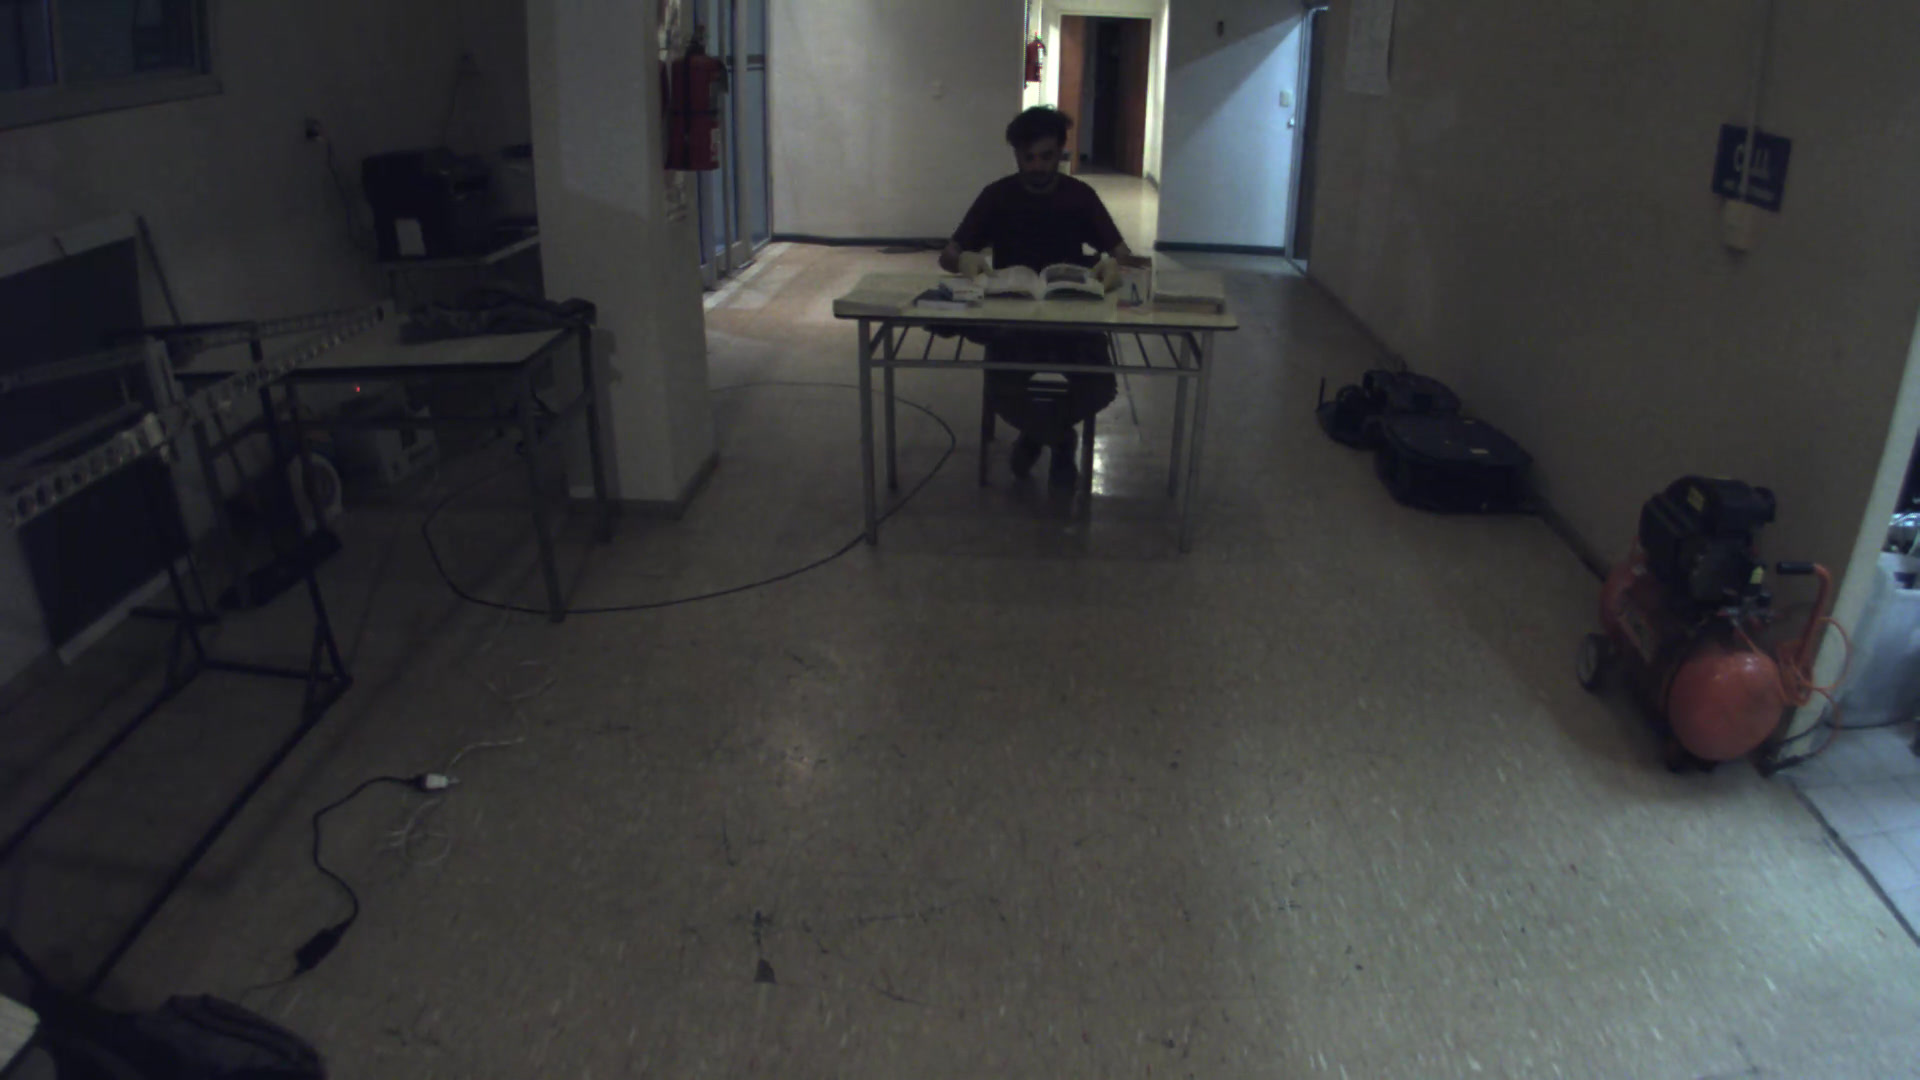hand: (949, 243, 1006, 280), (1083, 253, 1124, 295)
